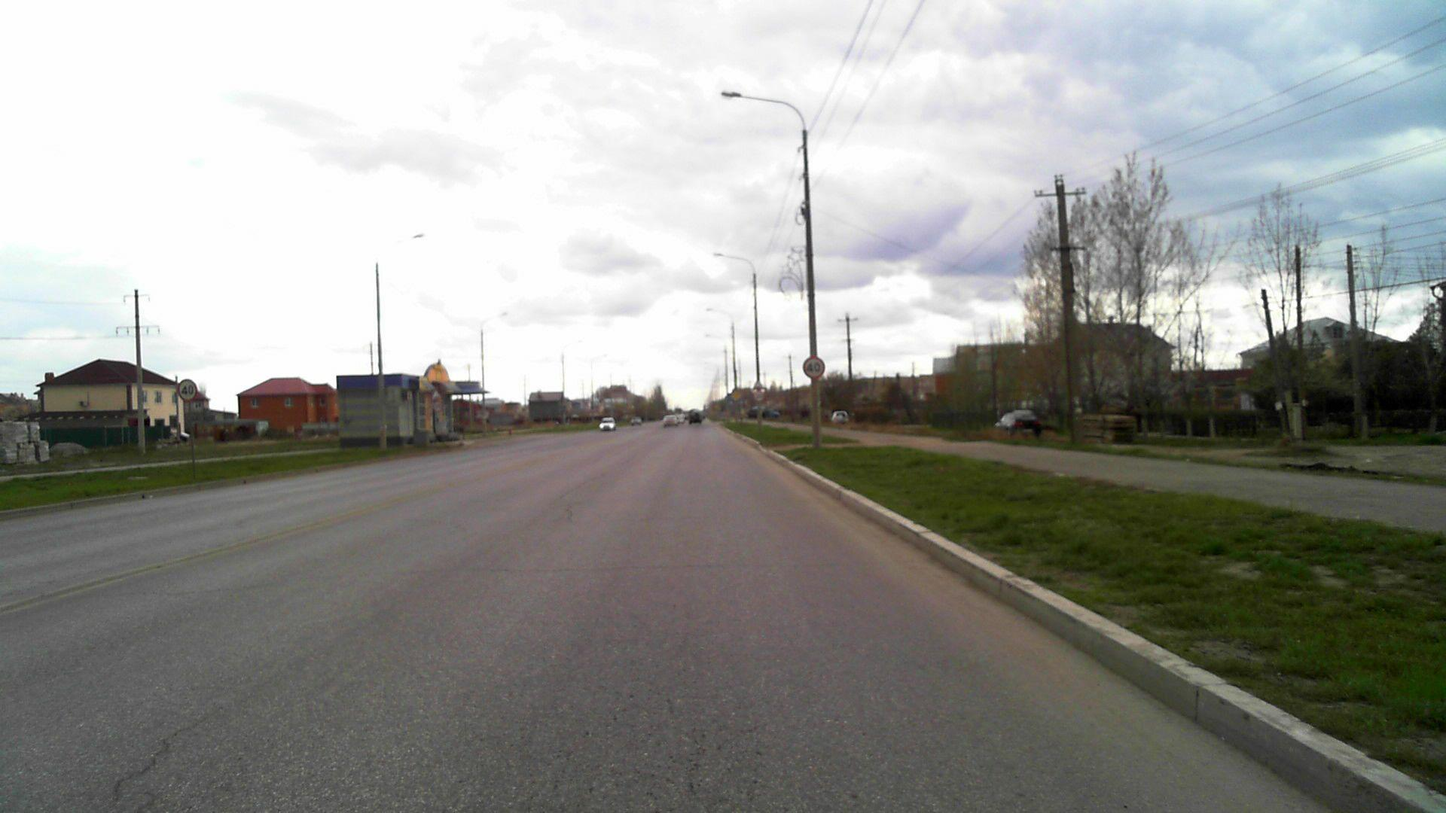road_sign: (802, 356, 826, 379)
